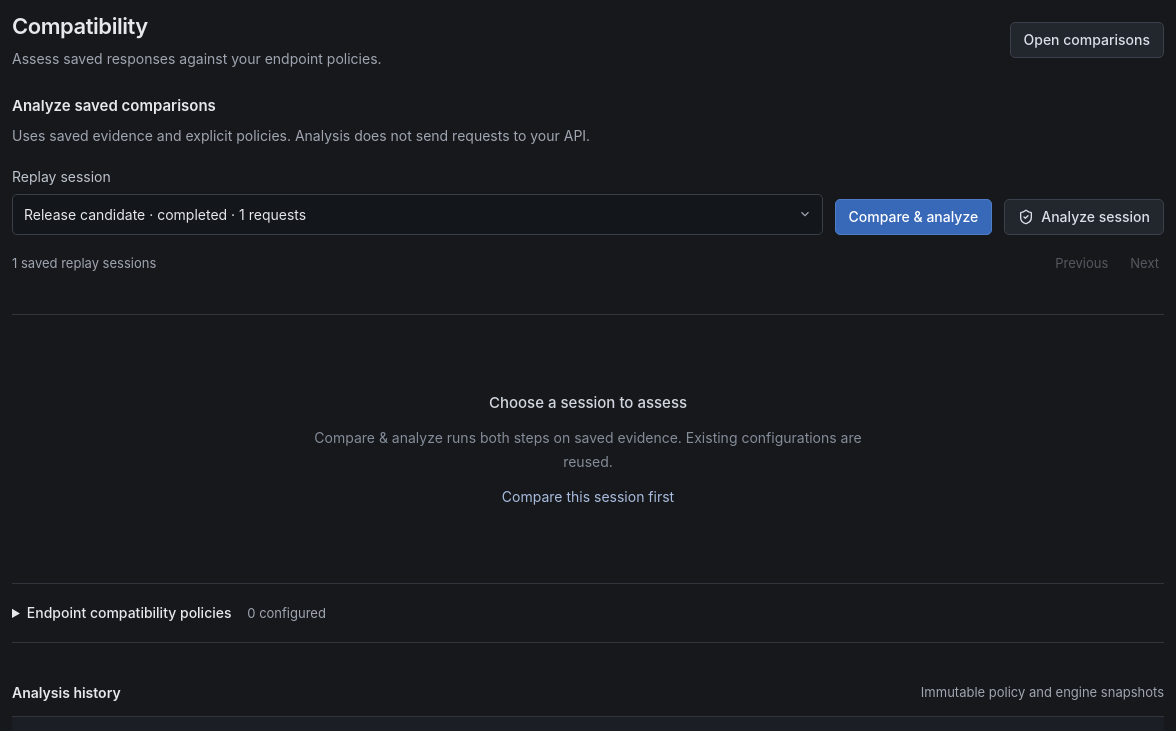
compares and analyzes saved evidence in one explicit action
Click the button "Compare & analyze": (913, 217) [834,199,992,235]
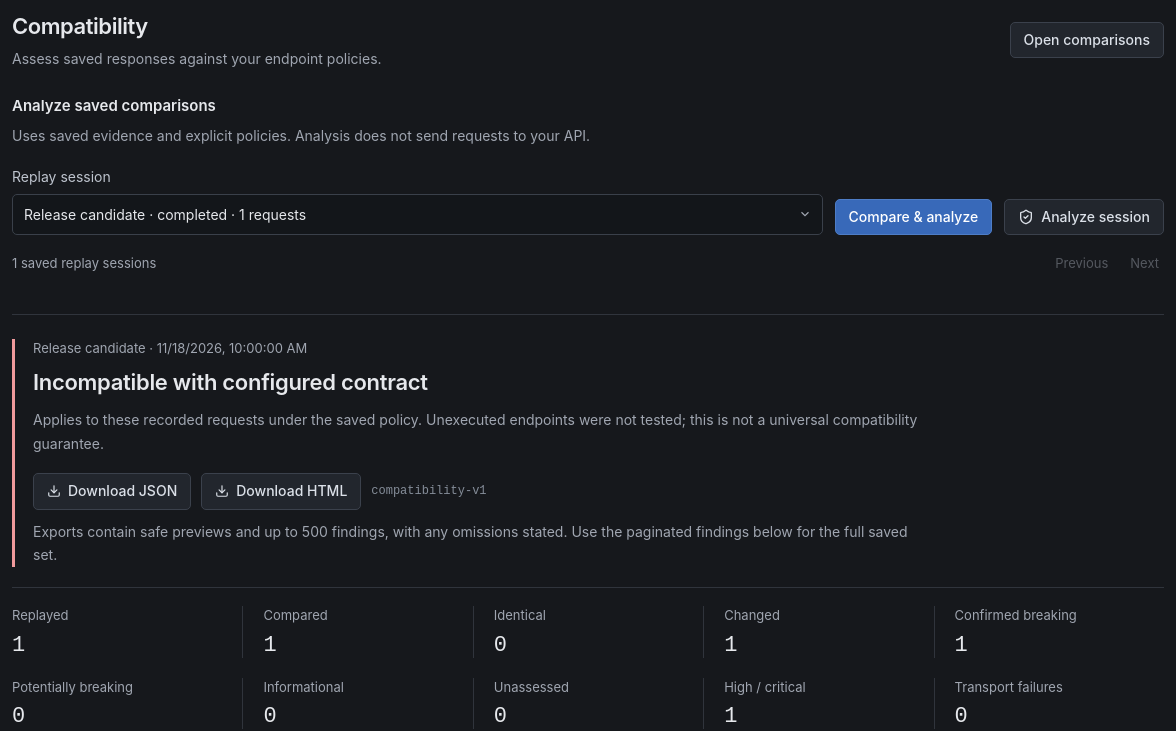
expect the heading "Incompatible with configured contract" is shown: met, box [33,369,428,395]
